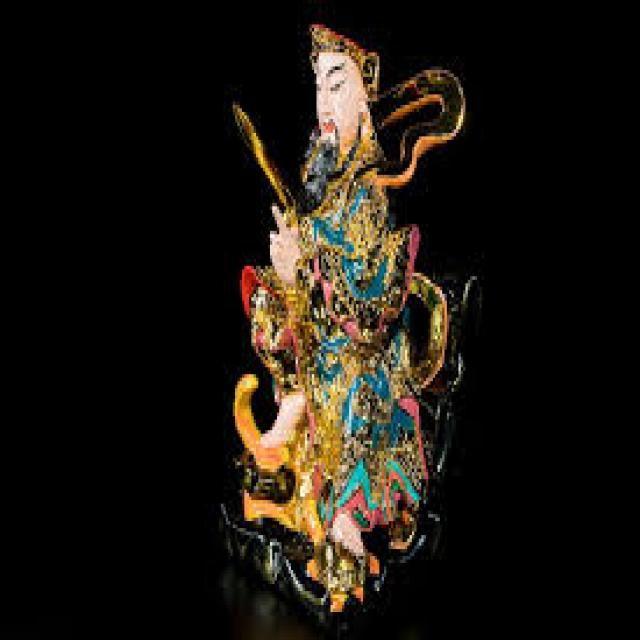Xuan wu: (233, 11, 448, 598)
